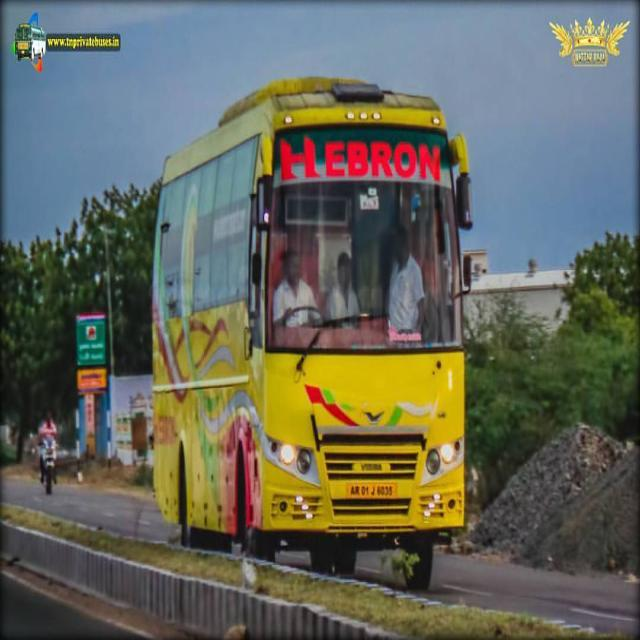Bus: (150, 72, 473, 584)
